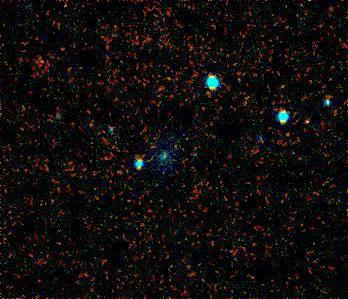star: (296, 107, 326, 137)
